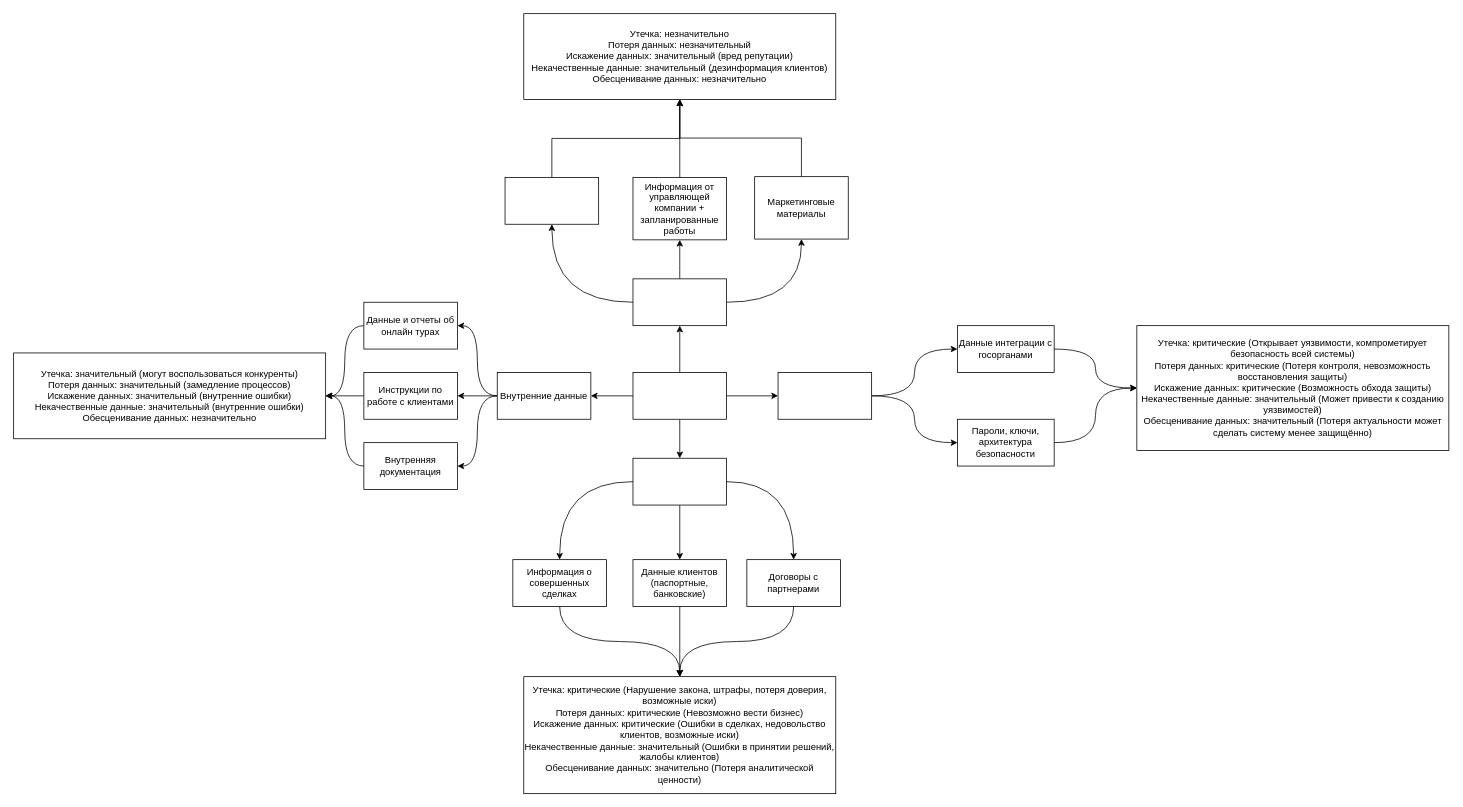
Some shapes in this 1463 by 807 pixel diagram are drawn without their labels. Each missing label, with the centre of its shape:
"Безопасность данных" goes at (679,395).
"Данные о недвижимости" goes at (551,200).
"Конфидециальные данные" goes at (679,481).
"Публичные данные" goes at (679,302).
"Секретные данные" goes at (824,395).
